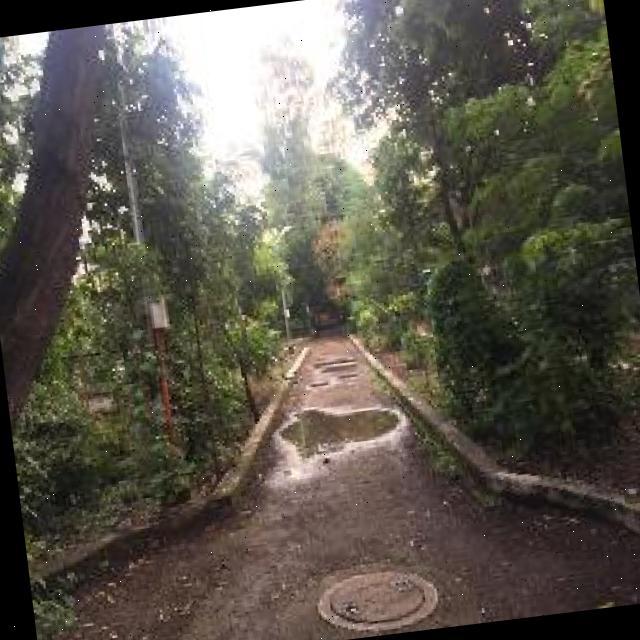stagnation: (282, 396, 404, 477)
